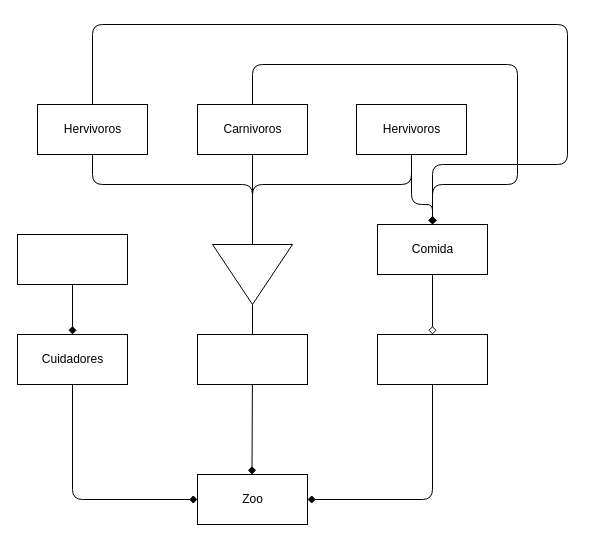
The diagram is 593 pixels wide and 542 high, and some of its shapes have lost their labels. The shapes that lost their labels are listed below. From the top down, each one's centre as x and y in pixels, then its label:
At [72,259]: "Vacaciones".
At [252,359]: "Animales".
At [432,359]: "Stock".
